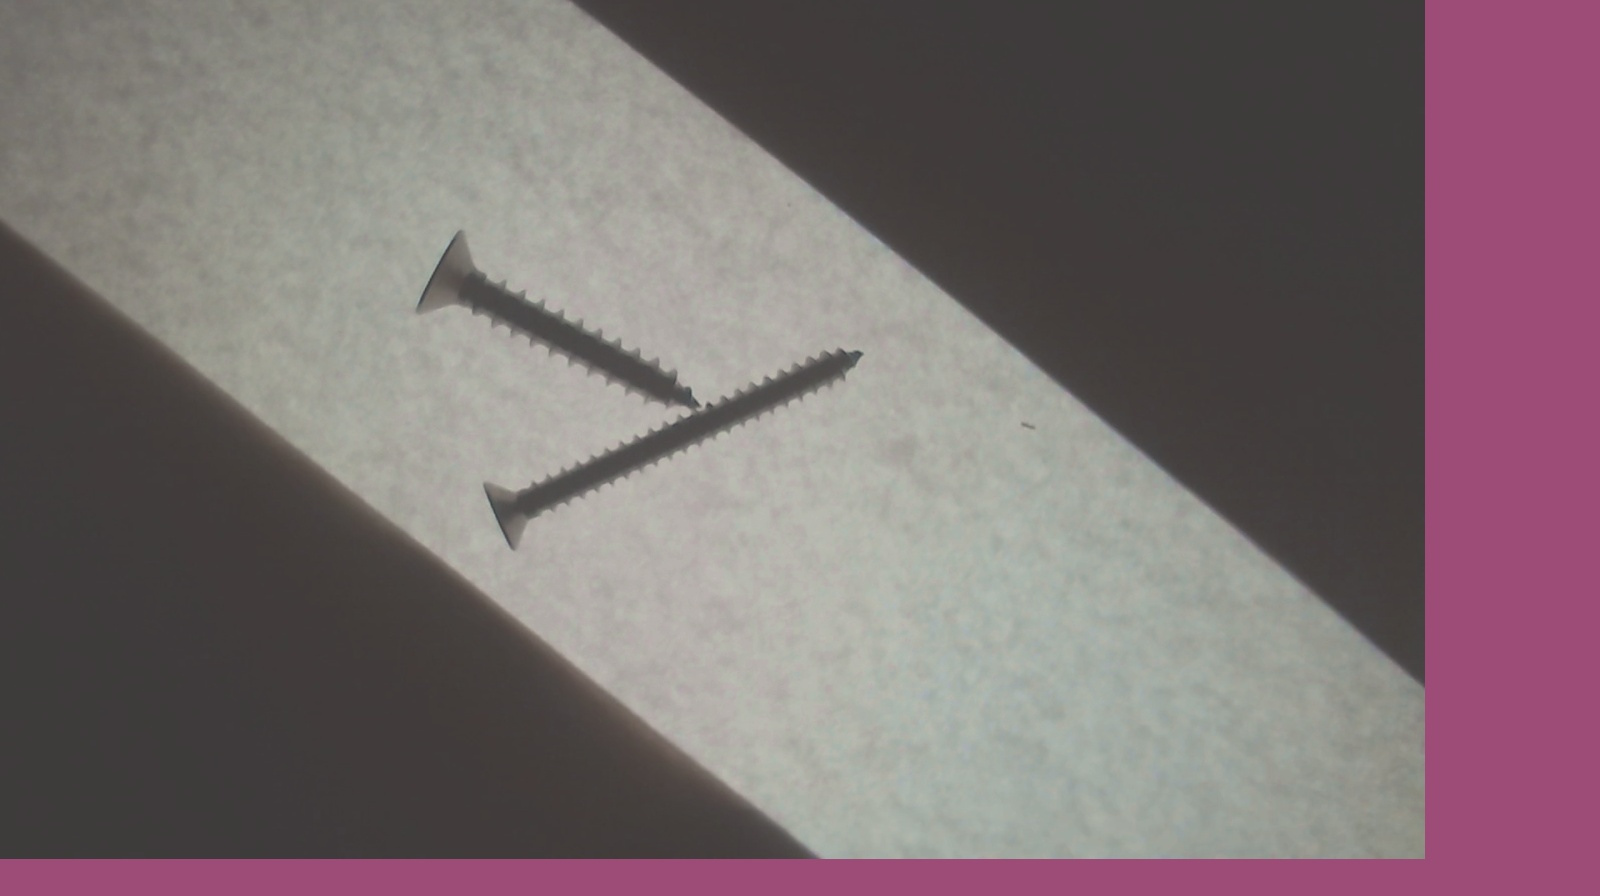S001: (409, 226, 705, 410)
S002: (480, 343, 868, 558)
